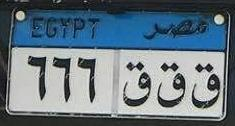6: (76, 53, 98, 105), (50, 53, 72, 105), (26, 52, 48, 102)
qaaf: (155, 56, 187, 112), (191, 59, 221, 112), (121, 58, 152, 109)
